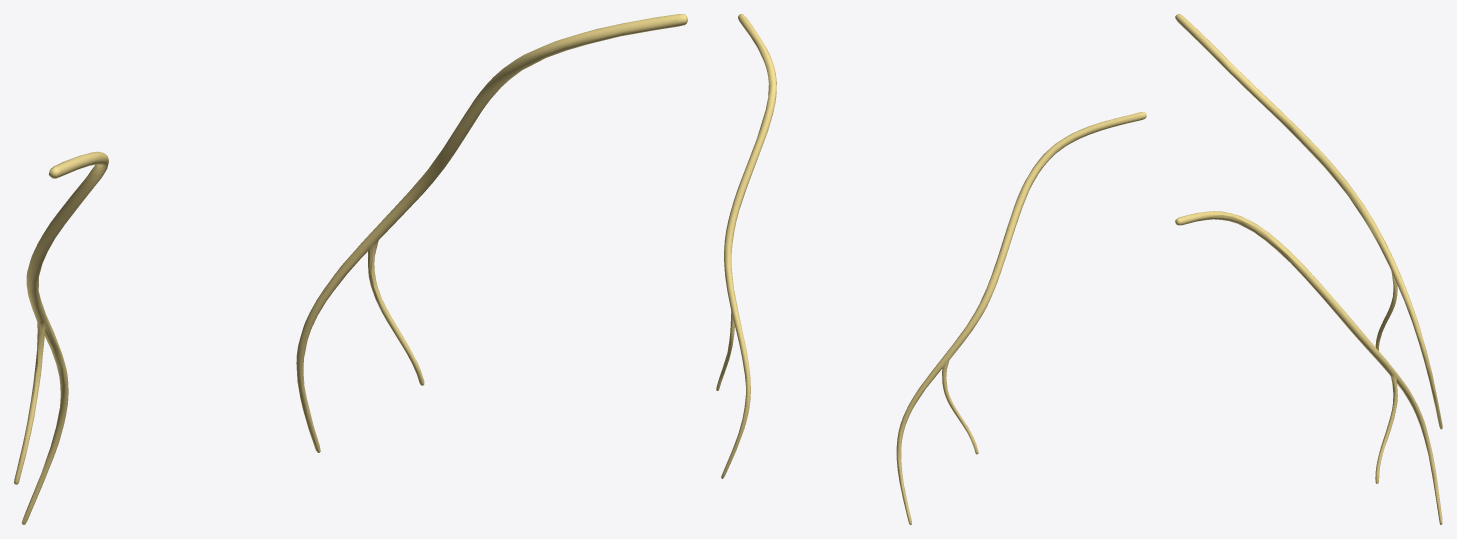
File: fma77524_cx241.glb
The picture shows the model from 3 angles, left to right: view 1: azimuth 30°, elevation 25°; view 2: azimuth 150°, elevation 25°; view 3: azimuth 270°, elevation 25°; orthographic projection. The views are drawn at different scales.
Visible parts, largest first — view 1: FMA77524_CX241; view 2: FMA77524_CX241; view 3: FMA77524_CX241.
Boxes of the visible parts, box(x1,y1,x2,y2) form: FMA77524_CX241: box(14, 14, 687, 524); FMA77524_CX241: box(716, 14, 1146, 524); FMA77524_CX241: box(1175, 14, 1442, 524).
Size of the model in its own units: 0.0393 by 0.0319 by 0.0214.
